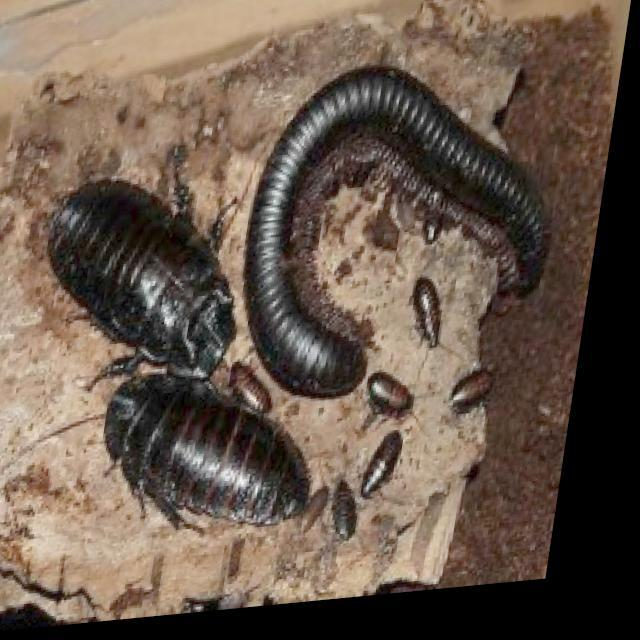cockroach: (41, 175, 250, 414), (81, 350, 295, 578), (360, 422, 409, 506), (229, 357, 291, 420), (442, 367, 510, 417), (358, 370, 419, 425), (411, 270, 450, 350), (329, 469, 367, 546)
